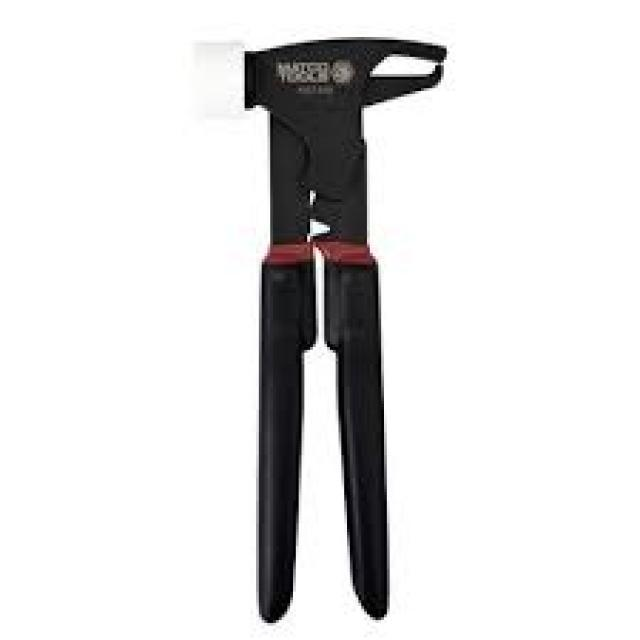pliers: (250, 34, 392, 634)
